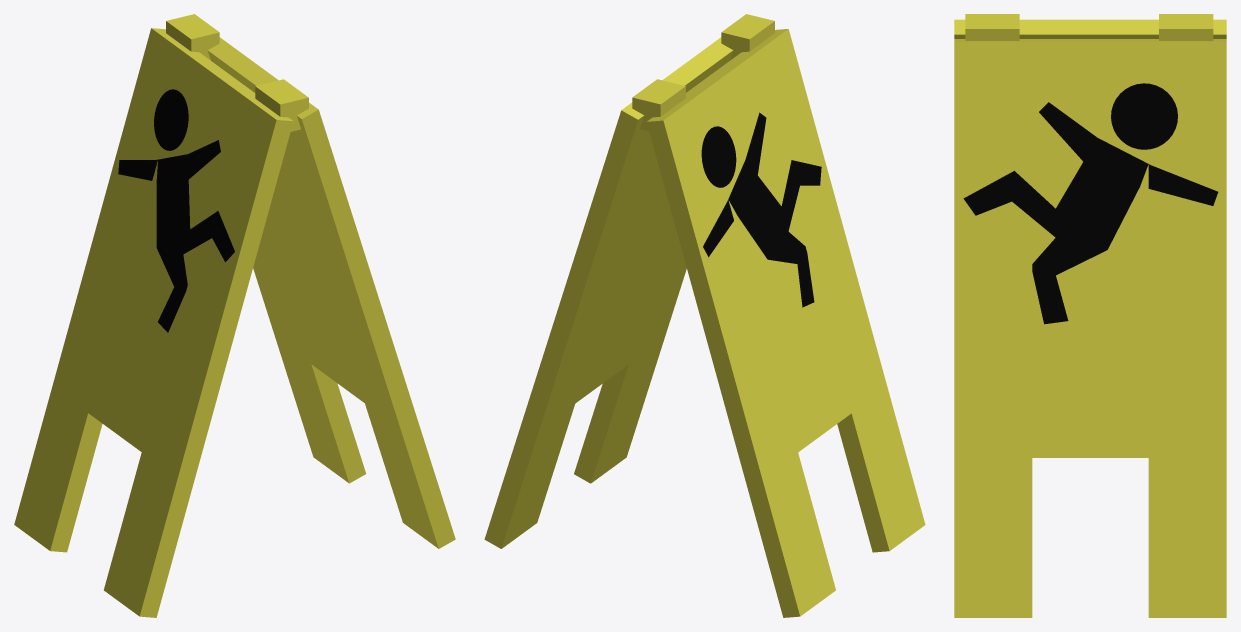
File: Wet floor sign.fbx
3 views of the same model, side by side, from view 1: azimuth 30°, elevation 25°; view 2: azimuth 150°, elevation 25°; view 3: azimuth 270°, elevation 25° (orthographic). The views are drawn at different scales.
Parts seen in each view (by area): view 1: Wet floor sign; view 2: Wet floor sign; view 3: Wet floor sign.
Boxes of the visible parts, x1,y1,x2,y2 form: Wet floor sign: (14, 14, 455, 617); Wet floor sign: (484, 14, 925, 617); Wet floor sign: (954, 14, 1226, 617).
Size of the model in its own units: 0.6414 by 0.927 by 0.4407.
